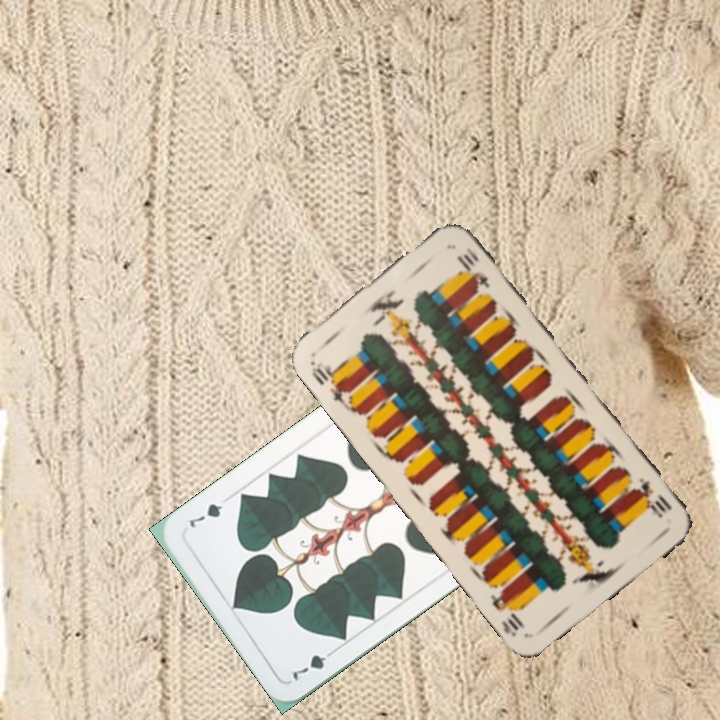E10: (306, 356, 353, 407), (630, 473, 675, 521)
G7: (288, 644, 340, 683)
